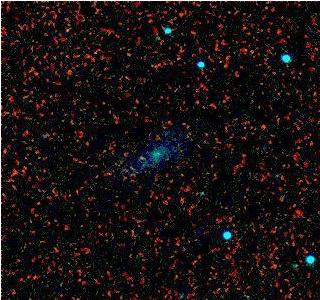star: (125, 141, 155, 171)
